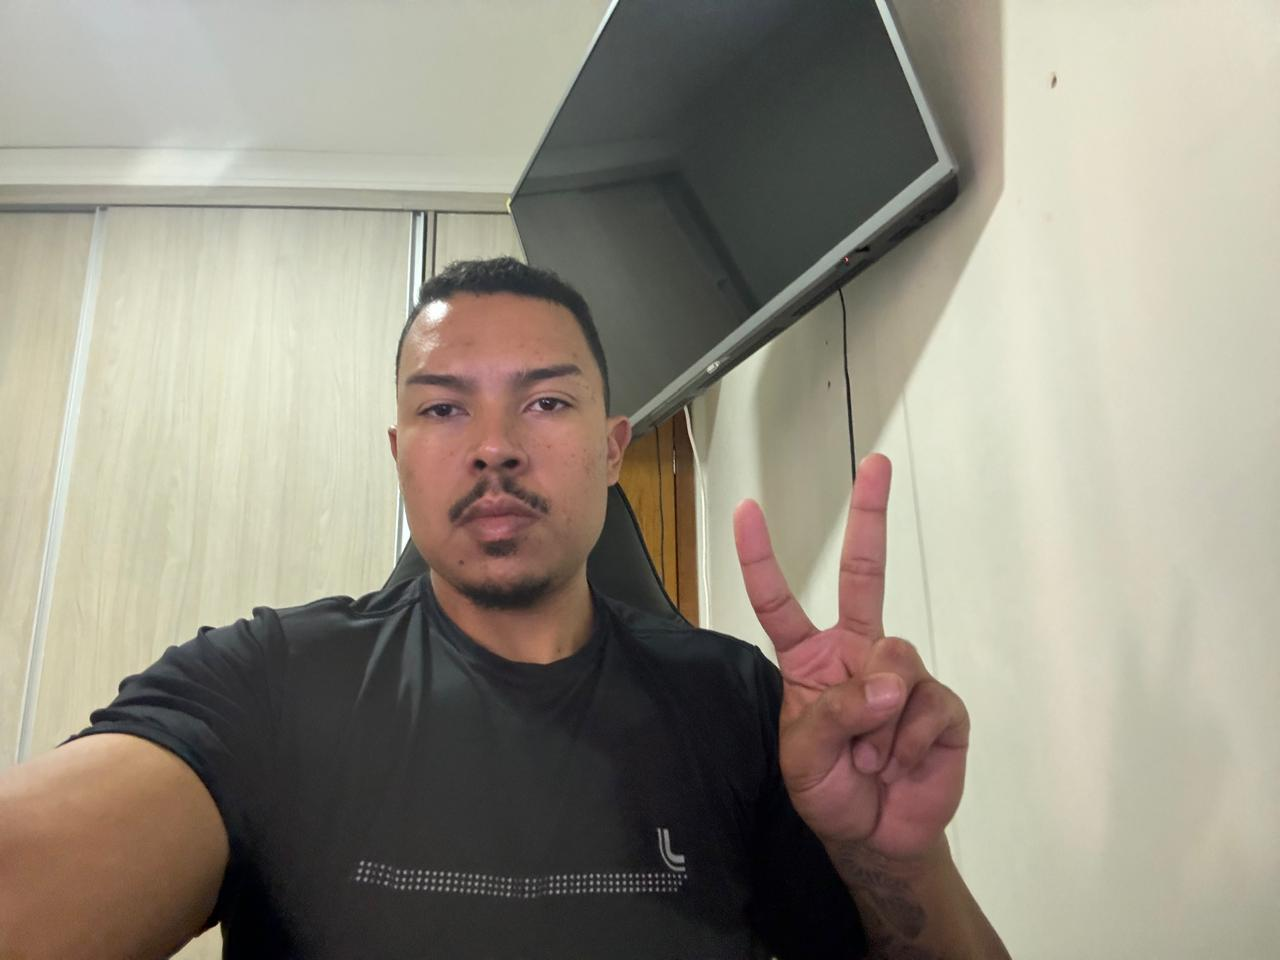v: (713, 439, 984, 866)
